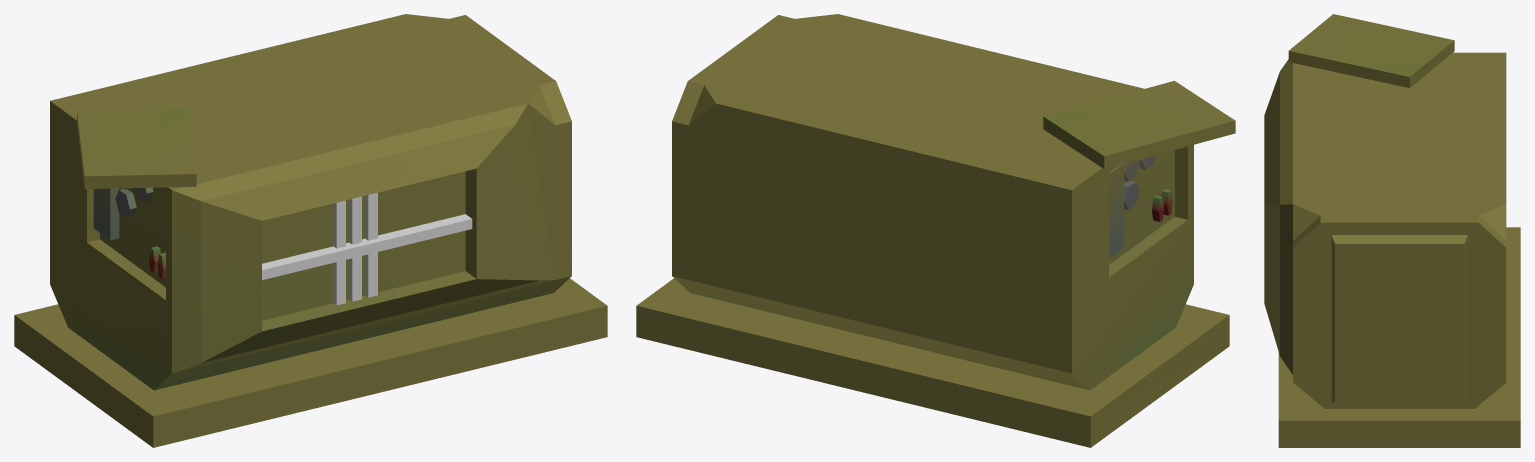
File: Geradores.fbx
The picture shows the model from 3 angles, left to right: view 1: azimuth 30°, elevation 25°; view 2: azimuth 150°, elevation 25°; view 3: azimuth 270°, elevation 25°; orthographic projection. The views are drawn at different scales.
Parts seen in each view (by area): view 1: LOD_0; view 2: LOD_0; view 3: LOD_0.
Boxes of the visible parts, x1,y1,x2,y2 form: LOD_0: (14,14,607,447); LOD_0: (636,14,1235,447); LOD_0: (1264,14,1520,447).
Size of what is drawn, in the model's own units: 372 by 186 by 193.
